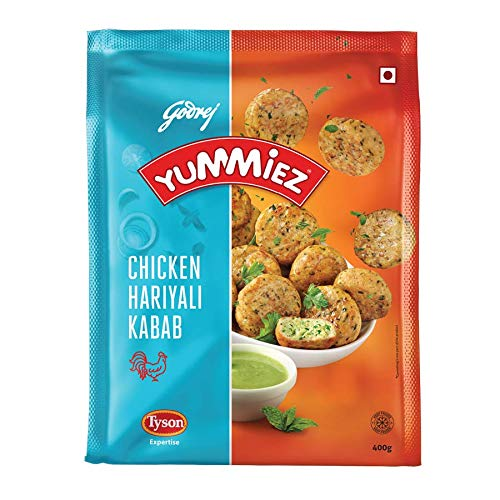non_veg: (377, 67, 406, 99)
